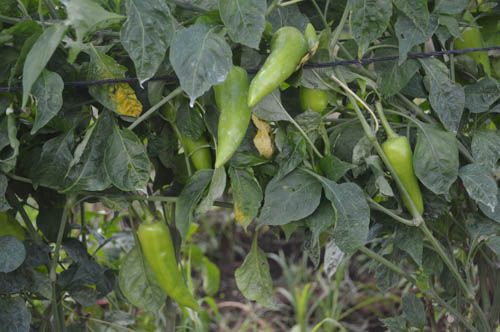ChiliPepper: (141, 223, 202, 311), (245, 28, 305, 112), (210, 67, 251, 174), (161, 104, 215, 175), (382, 138, 427, 215)
